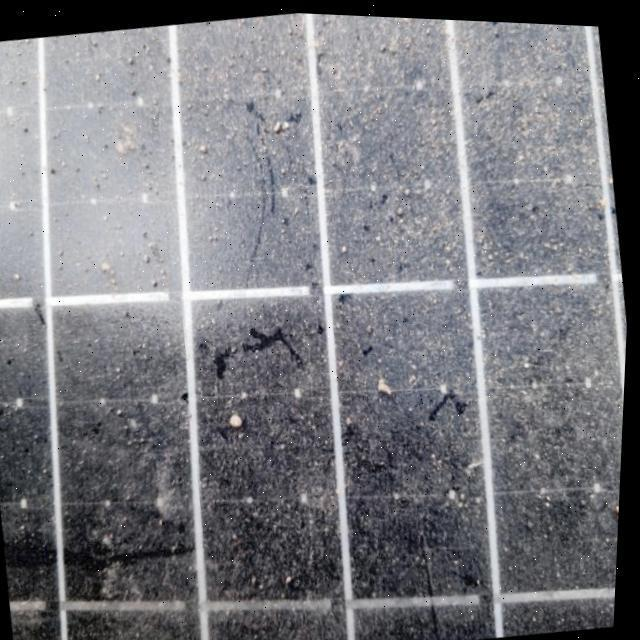Anomaly Solar Panel: (0, 0, 640, 640)
Surface Contaminant: (0, 188, 495, 640)
